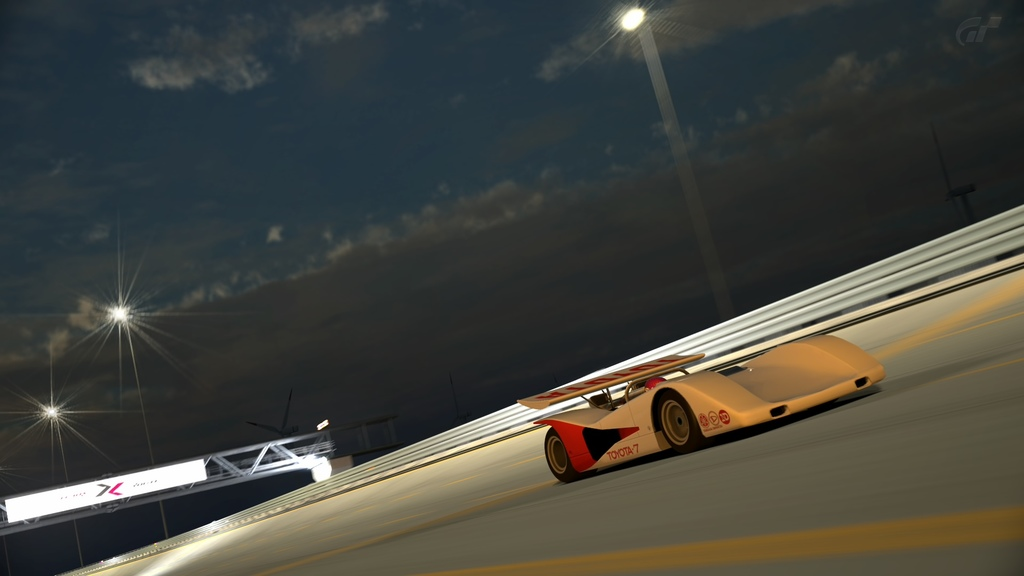Car: (515, 334, 885, 482)
